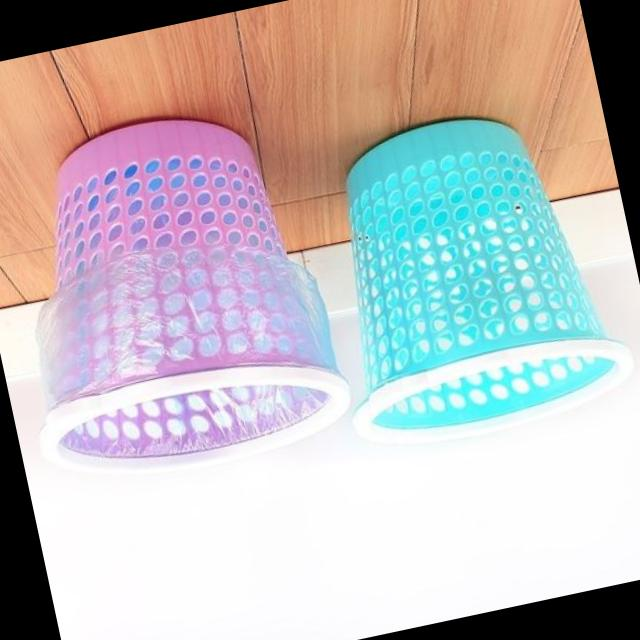dustbin: (0, 83, 365, 505), (294, 84, 640, 464)
